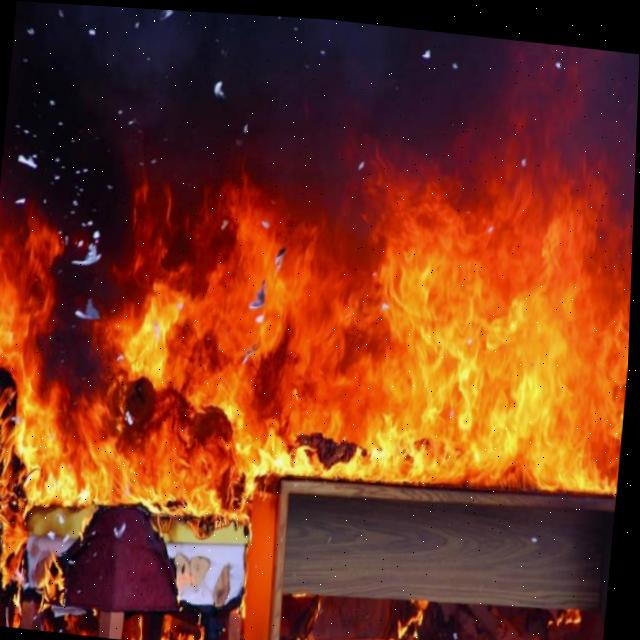fire: (0, 161, 634, 565)
smoke: (7, 1, 639, 176)
